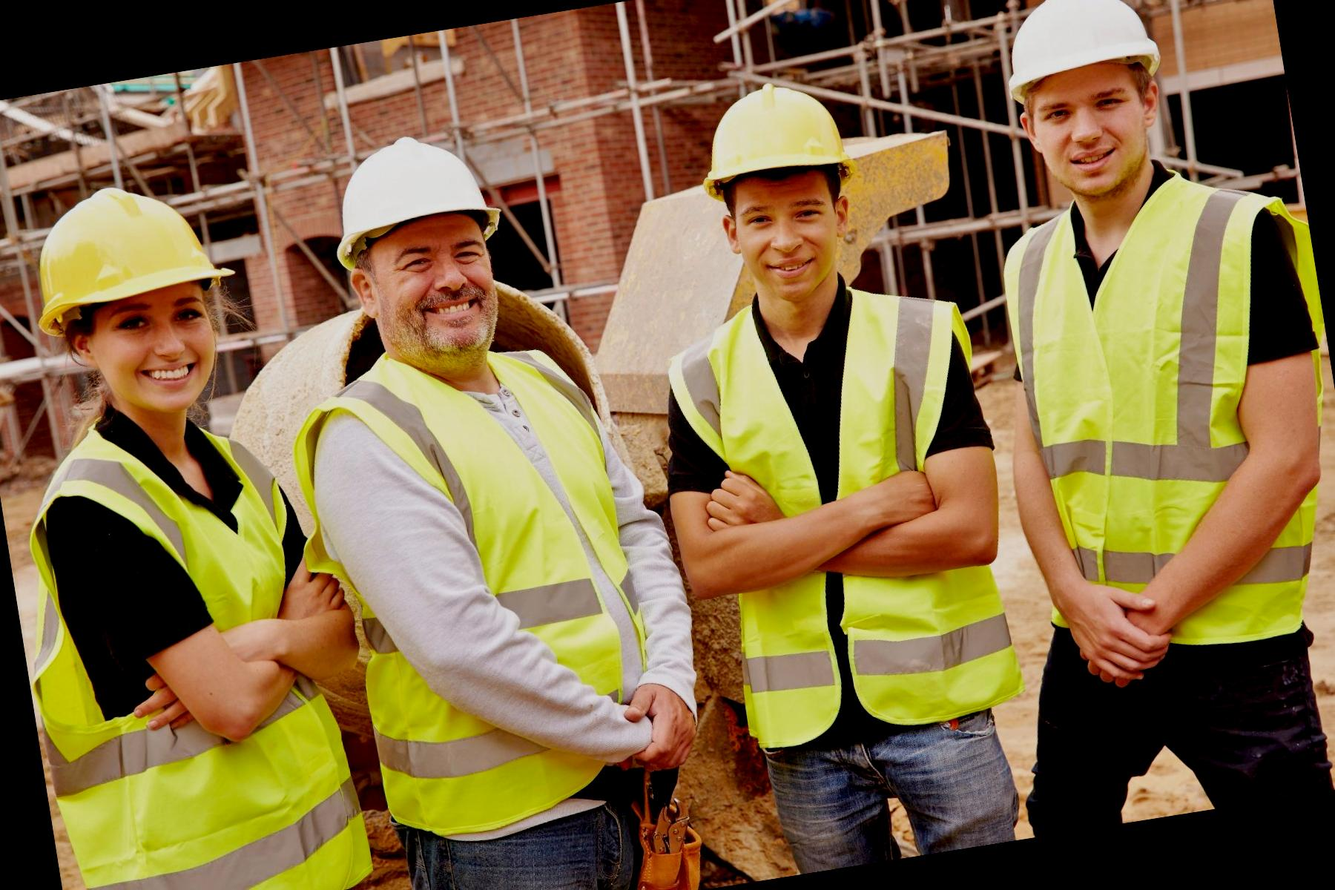helmet: (8, 166, 237, 333), (317, 125, 508, 263), (682, 76, 865, 210), (978, 0, 1171, 107)
person: (611, 60, 1056, 885), (254, 104, 702, 890), (932, 0, 1335, 833), (0, 159, 377, 890)
